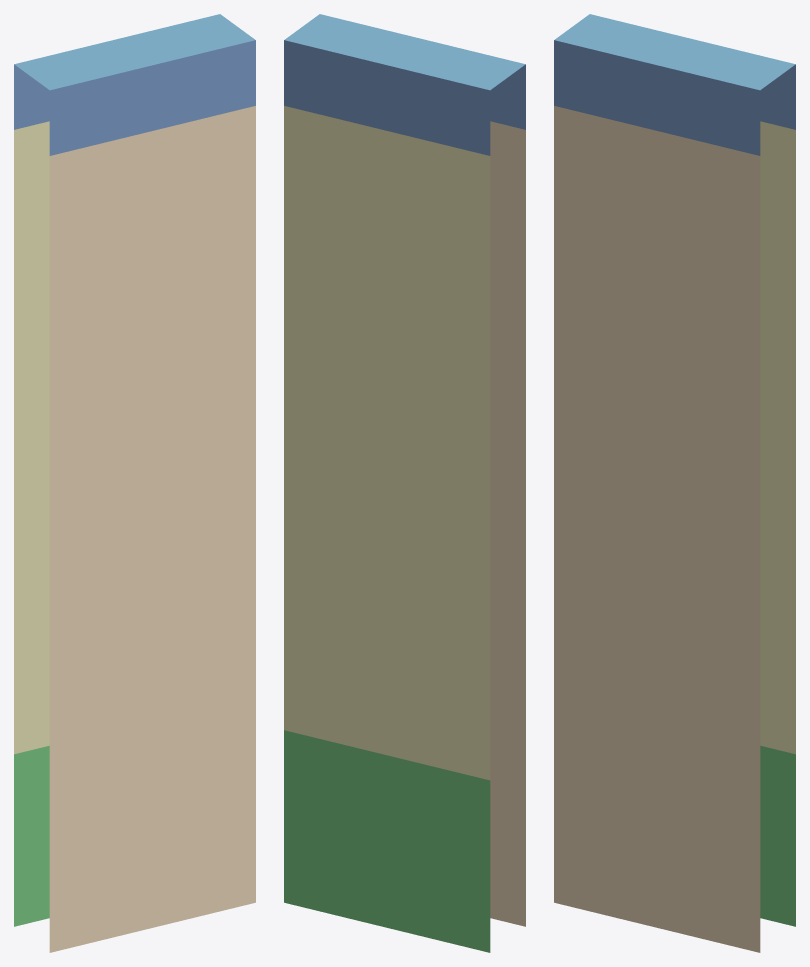
File: wall_inside_L.fbx
3 views of the same model, side by side, from view 1: azimuth 30°, elevation 25°; view 2: azimuth 150°, elevation 25°; view 3: azimuth 330°, elevation 25° (orthographic).
Visible parts, largest first — view 1: wall_l2; view 2: wall_l2; view 3: wall_l2.
Boxes of the visible parts, x1,y1,x2,y2 form: wall_l2: [14, 14, 255, 952]; wall_l2: [284, 14, 525, 952]; wall_l2: [554, 14, 795, 952].
Size of the model in its own units: 100 by 400 by 30.
